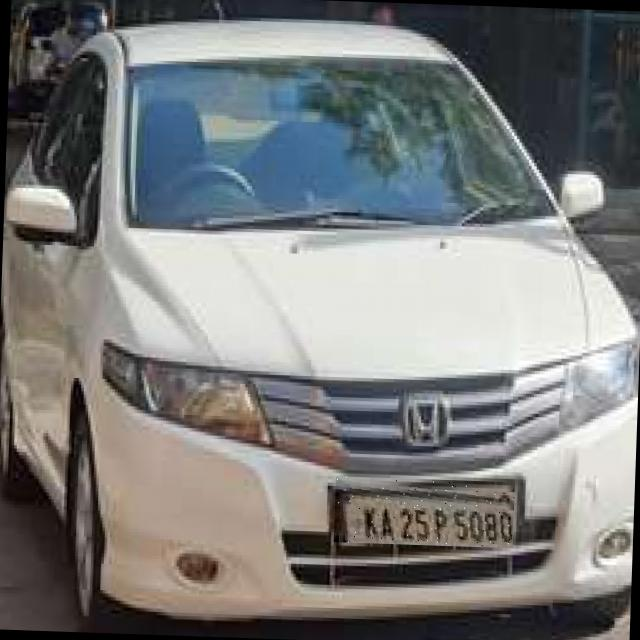Plate: (335, 477, 516, 549)
